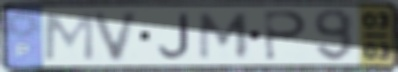9: (312, 7, 357, 64)
J: (156, 12, 193, 61)
M: (196, 11, 252, 62), (42, 11, 96, 63)
P: (262, 9, 310, 63)
V: (90, 9, 144, 64)
